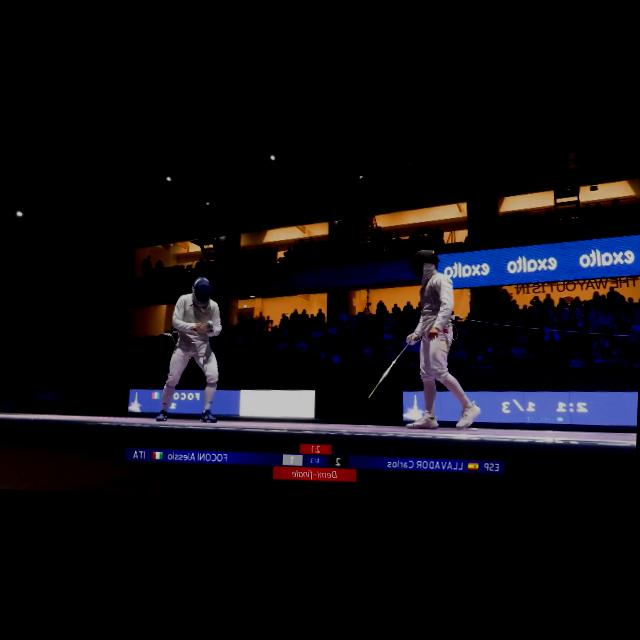blade: (365, 332, 416, 405)
